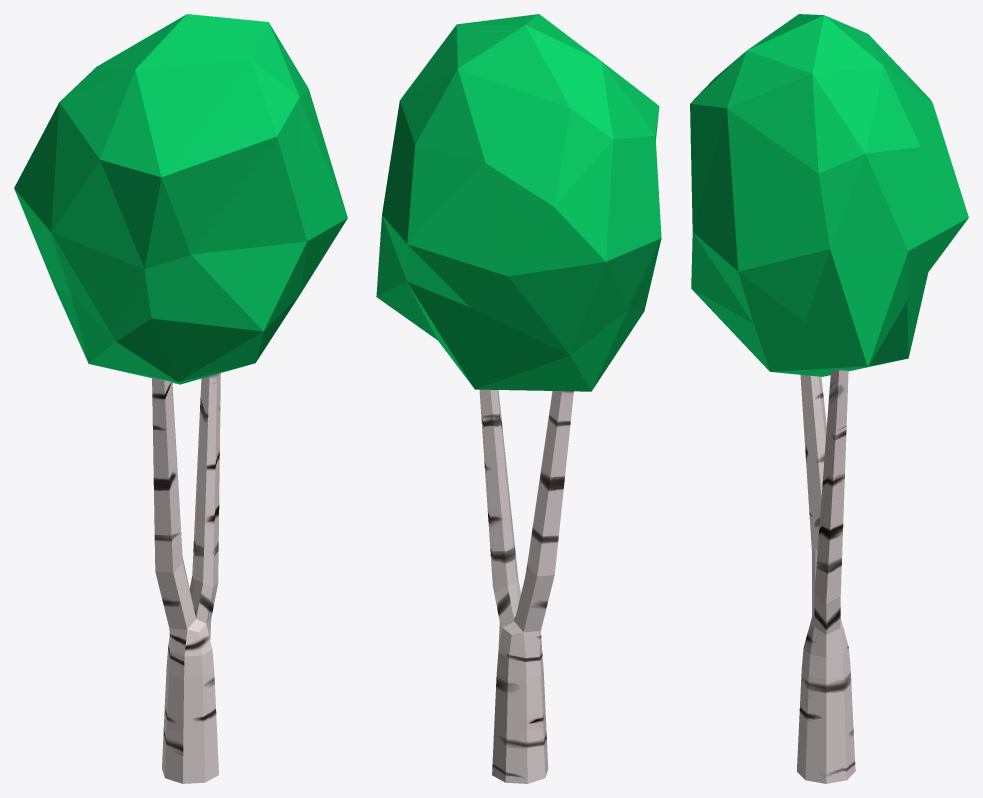
The model's file is Birch_2.fbx.
The picture shows the model from 3 angles, left to right: view 1: azimuth 30°, elevation 25°; view 2: azimuth 150°, elevation 25°; view 3: azimuth 270°, elevation 25°; orthographic projection.
Parts seen in each view (by area): view 1: Birch 2_LOD0; view 2: Birch 2_LOD0; view 3: Birch 2_LOD0.
Boxes of the visible parts, x1,y1,x2,y2 form: Birch 2_LOD0: [14, 14, 347, 783]; Birch 2_LOD0: [376, 14, 661, 783]; Birch 2_LOD0: [690, 14, 968, 783].
Size of what is drawn, in the model's own units: 300 by 817 by 274.
